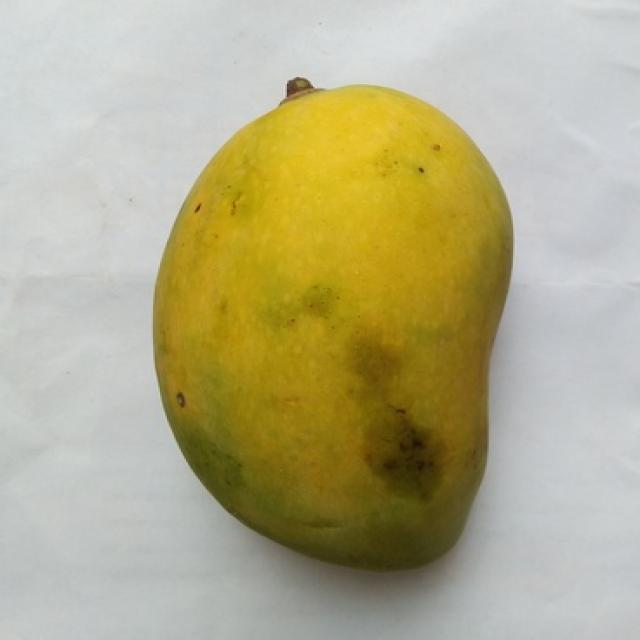Mango: (155, 78, 511, 569)
